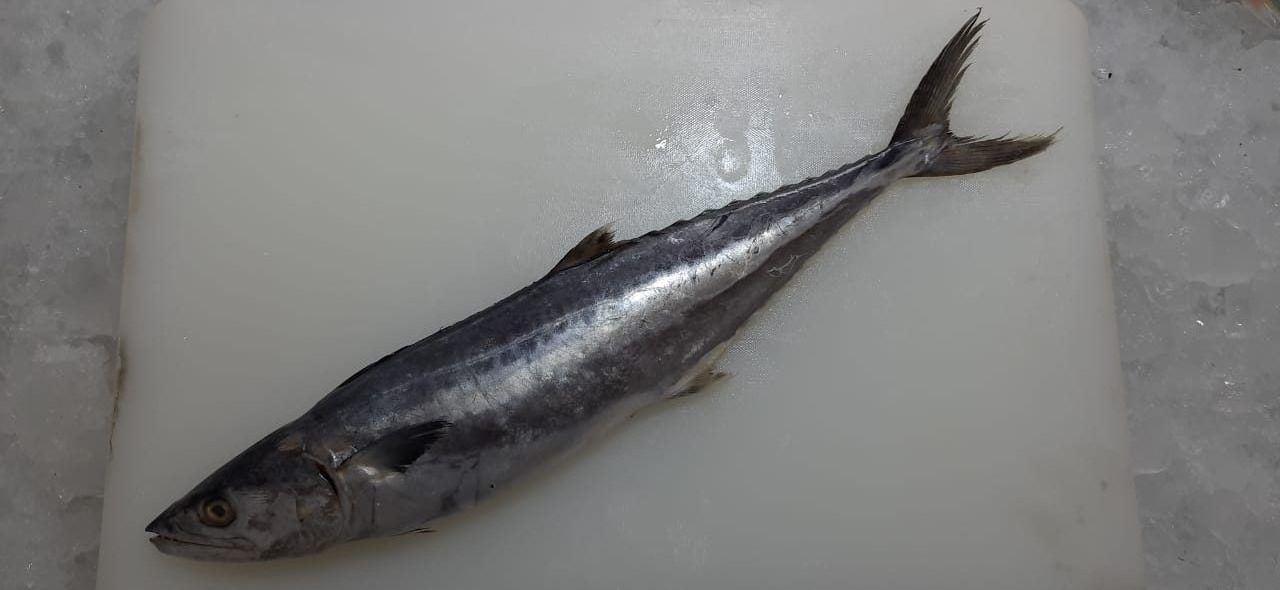Surmai: (137, 6, 1063, 566)
